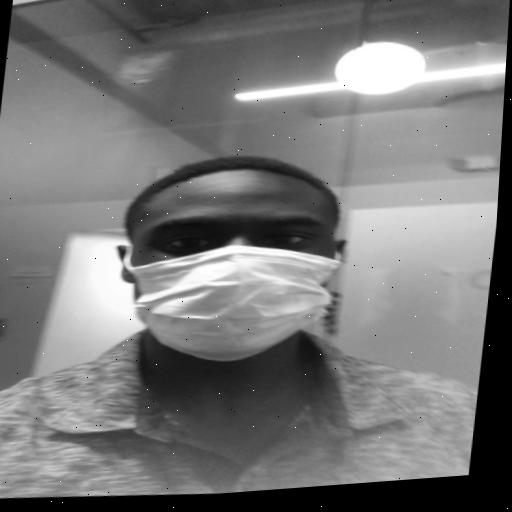mask: (107, 145, 356, 376)
